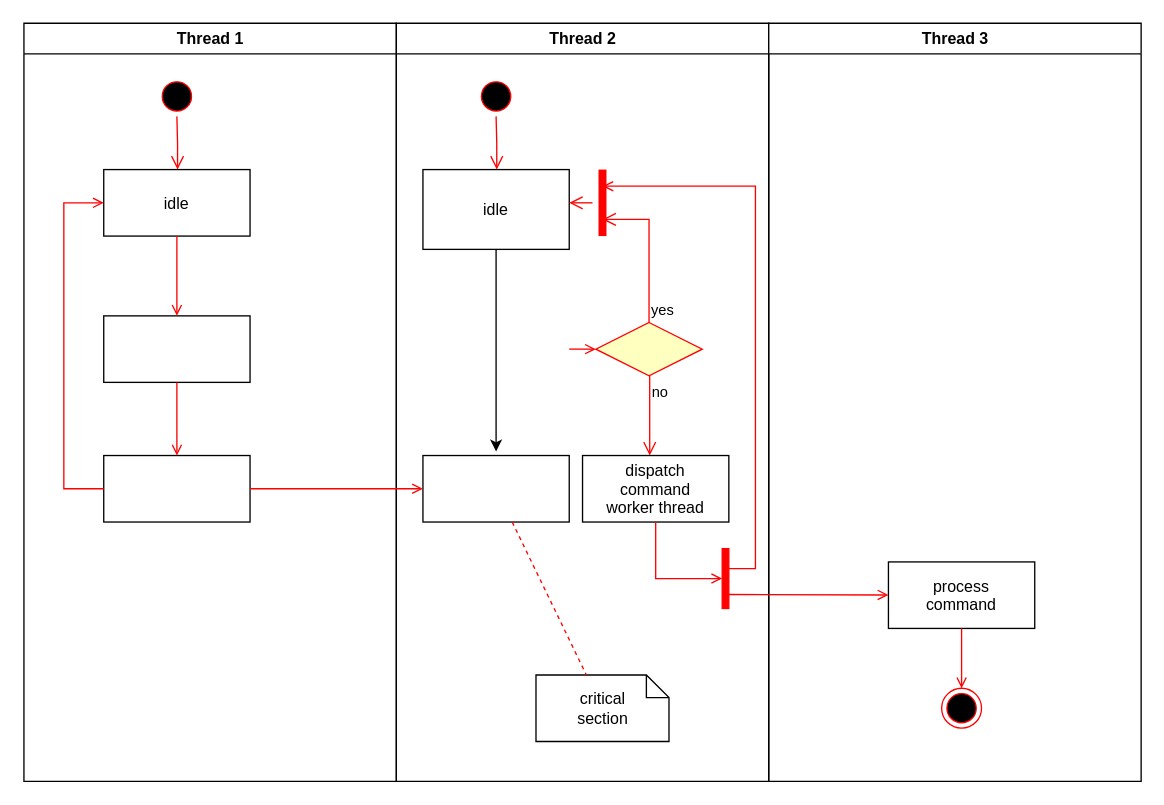
The diagram is 1164 pixels wide and 805 high, and some of its shapes have lost their labels. Each missing label, with the centre of its shape:
command queue: the point at 495,488
post command: the point at 176,488
queue empty: the point at 648,348
user action: the point at 176,348
